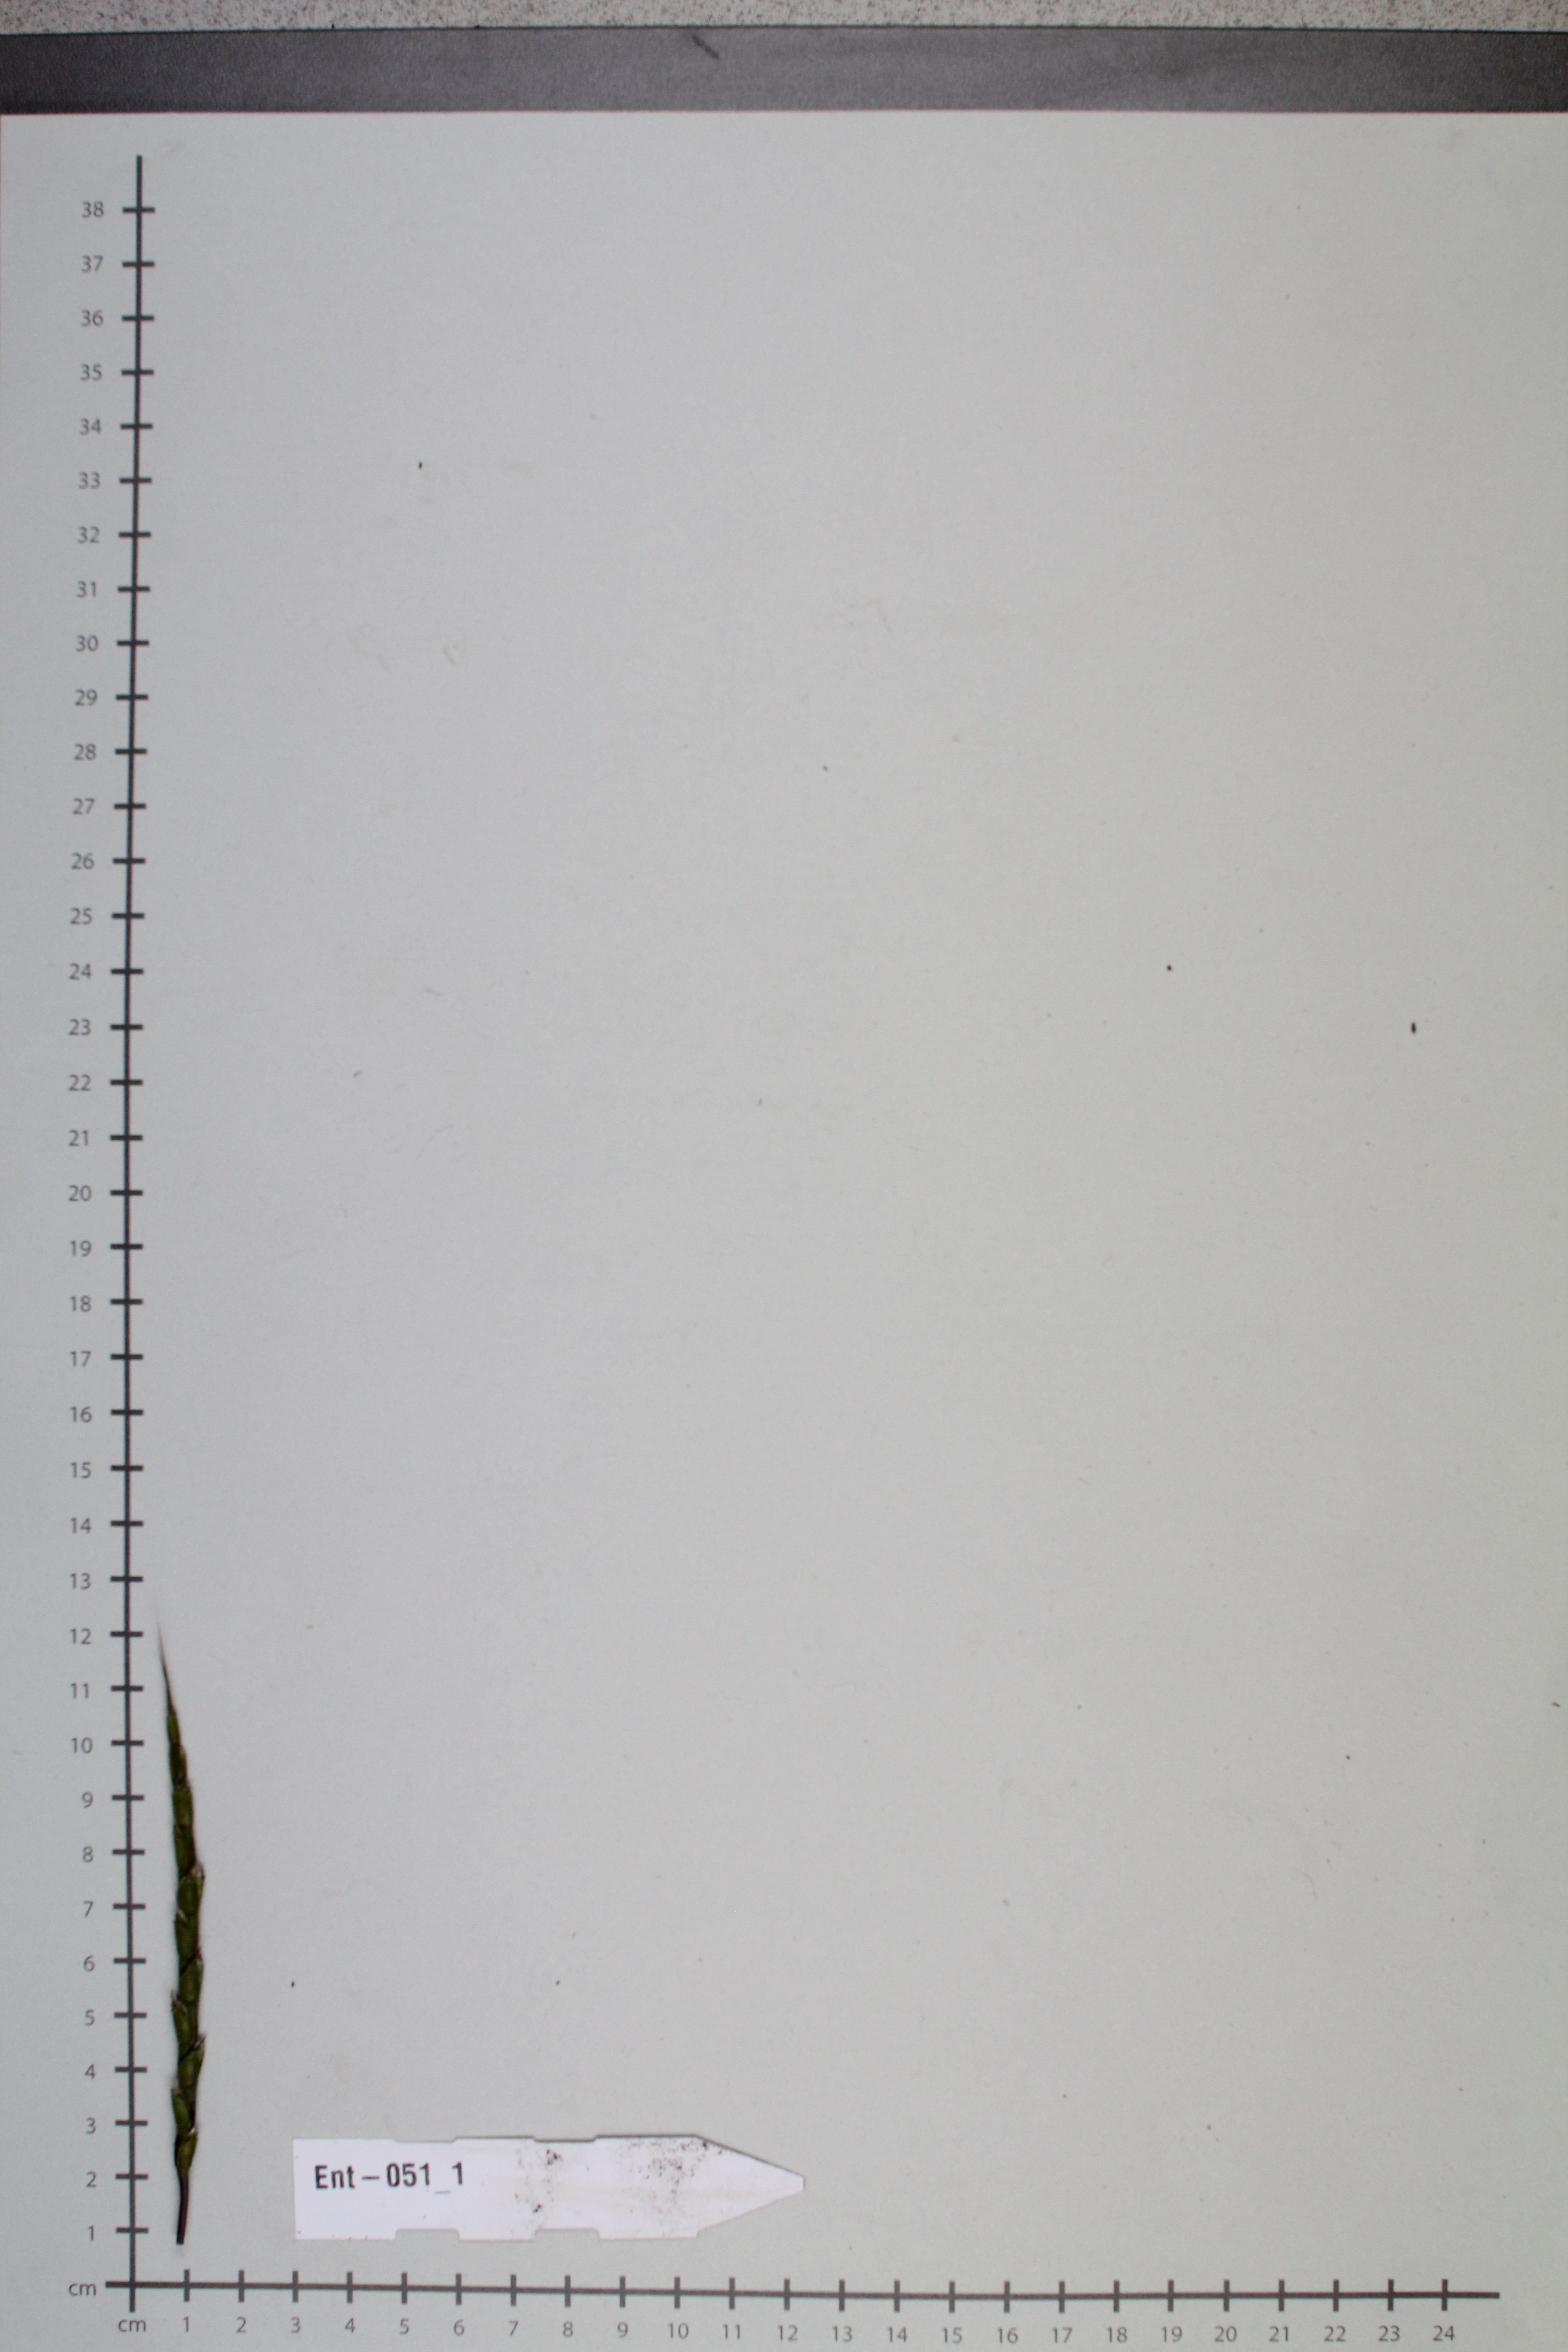oat: (149, 1643, 242, 2251)
tag: (282, 2132, 827, 2241)
